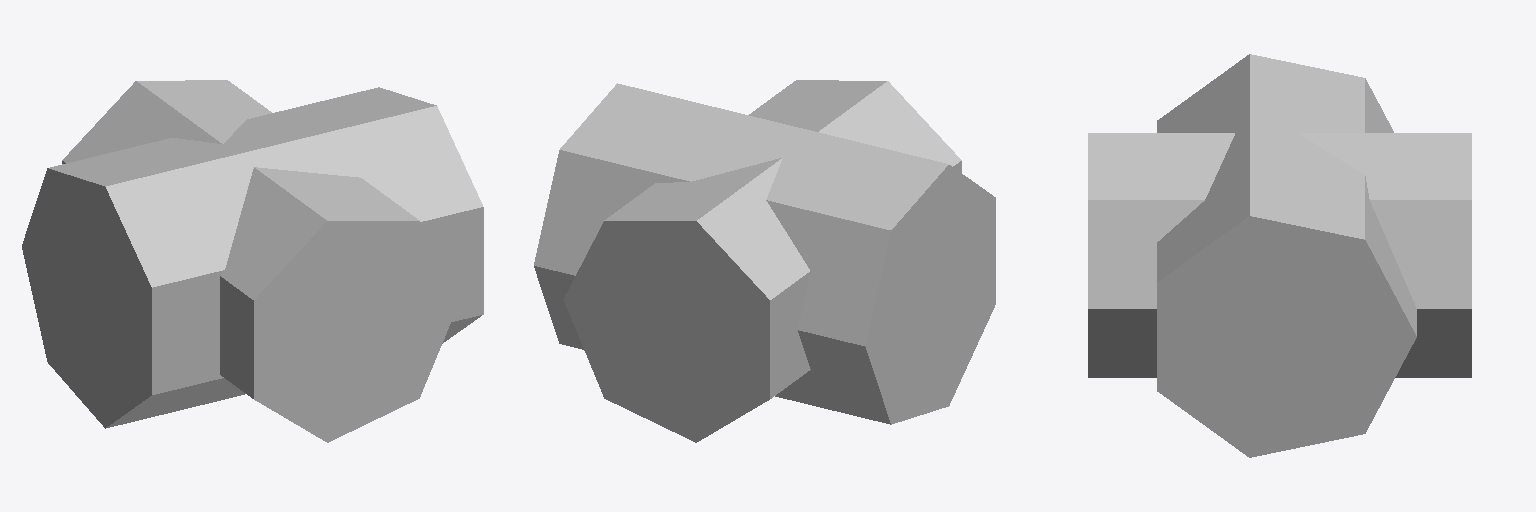
The model's file is r_talus.obj.
The picture shows the model from 3 angles: view 1: azimuth 30°, elevation 25°; view 2: azimuth 150°, elevation 25°; view 3: azimuth 270°, elevation 25°; orthographic projection.
Parts seen in each view (by area): view 1: <dummy_root>; view 2: <dummy_root>; view 3: <dummy_root>.
Part boxes in pixels (x1,y1,x2,y2): <dummy_root>: (22, 80, 483, 442); <dummy_root>: (534, 80, 995, 442); <dummy_root>: (1088, 54, 1471, 457).
Bounding box in the file's own units: 0.0327 × 0.0228 × 0.0327.